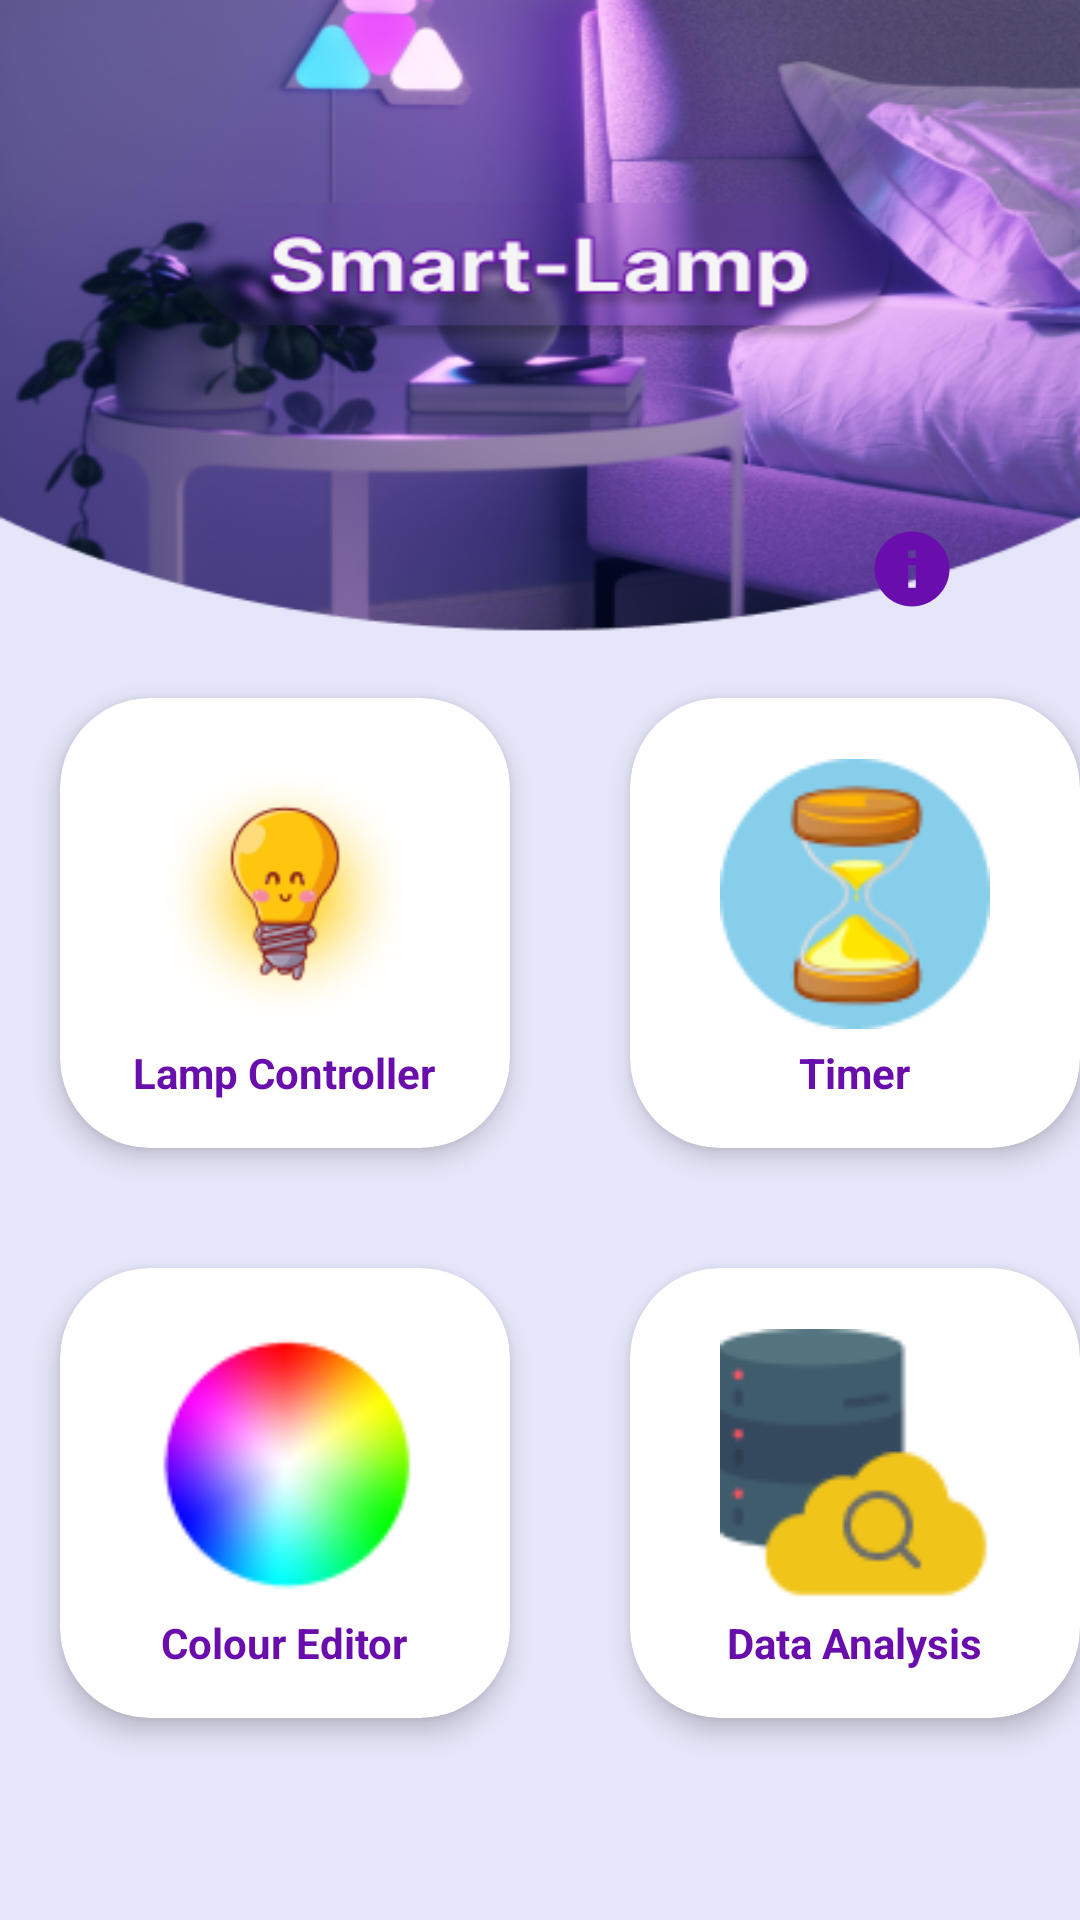

Icons on this 1080*1920 Android screen, each with the point to tap as point (x, y):
info: point (912, 569)
